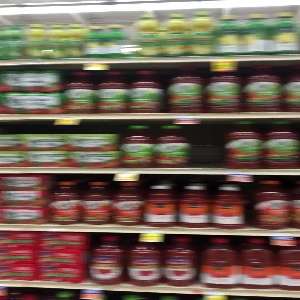void: (184, 119, 228, 170)
